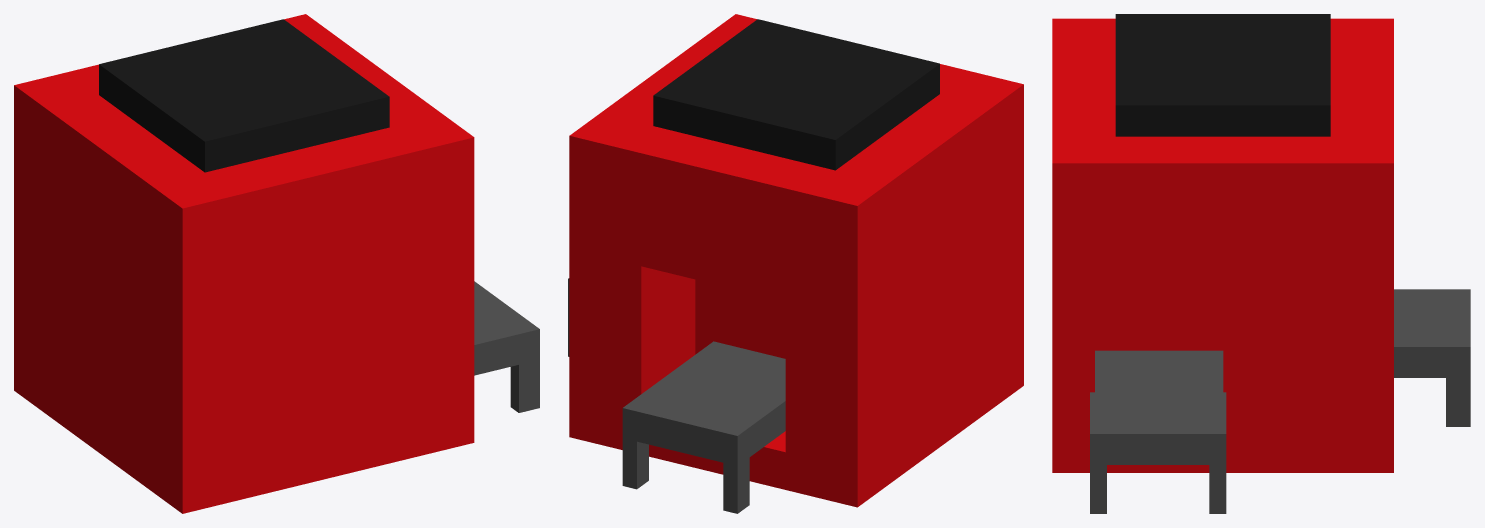
The model's file is Factory_2.dae.
The picture shows the model from 3 angles, left to right: view 1: azimuth 30°, elevation 25°; view 2: azimuth 150°, elevation 25°; view 3: azimuth 270°, elevation 25°; orthographic projection. The views are drawn at different scales.
Parts seen in each view (by area): view 1: Cube, Cube.002, Cube.003; view 2: Cube, Cube.002, Cube.001; view 3: Cube, Cube.002, Cube.003, Cube.001.
Part boxes in pixels (x1,y1,x2,y2): Cube: [14, 14, 474, 513]; Cube.002: [99, 19, 389, 172]; Cube.003: [474, 281, 539, 412]; Cube: [569, 14, 1023, 507]; Cube.002: [653, 19, 939, 170]; Cube.001: [622, 341, 785, 513]; Cube: [1052, 18, 1393, 472]; Cube.002: [1115, 14, 1330, 136]; Cube.003: [1090, 350, 1226, 513]; Cube.001: [1394, 289, 1470, 426].
Size of the model in its own units: 2.58 by 2.45 by 2.2.
